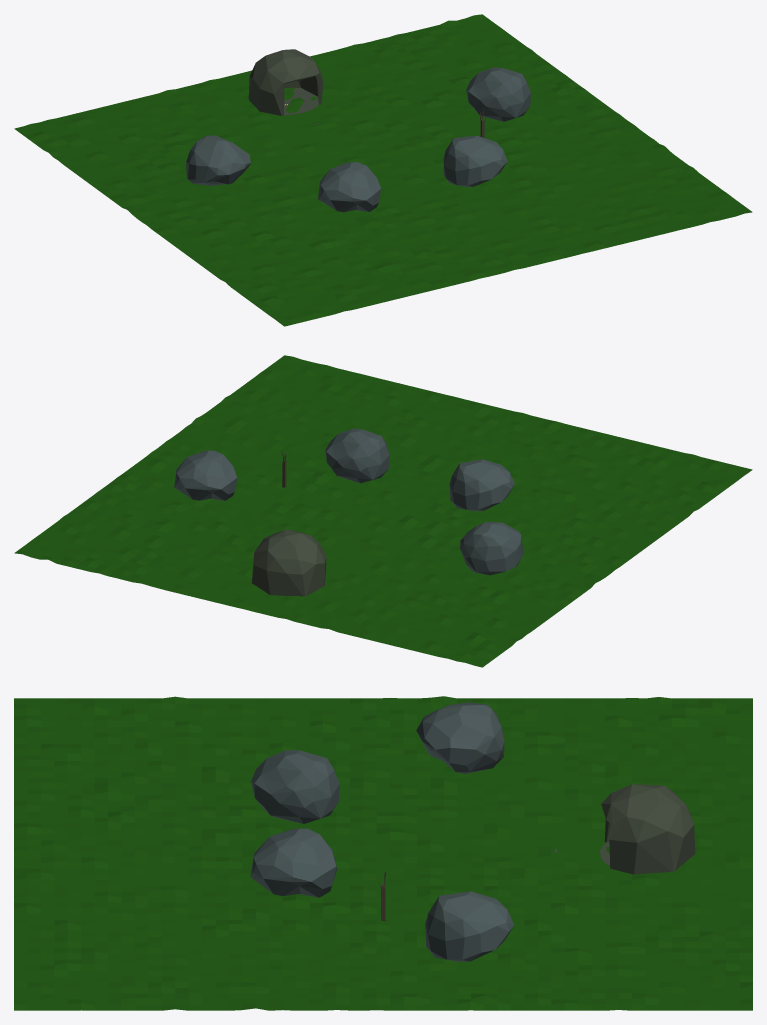
File: enviro.fbx
3 renders of one model, top to bottom at view 1: azimuth 30°, elevation 25°; view 2: azimuth 150°, elevation 25°; view 3: azimuth 270°, elevation 25°, orthographic. The views are drawn at different scales.
Visible parts, largest first — view 1: Plane, Cube.001, Cube.006, Cube.004, Cube.005, Cube.007; view 2: Plane, Cube.001, Cube.004, Cube.007, Cube.005, Cube.006; view 3: Plane, Cube.001, Cube.005, Cube.006, Cube.007, Cube.004.
Boxes of the visible parts, bbox=[...] form: Plane: bbox=[14, 14, 752, 326]; Cube.001: bbox=[248, 49, 323, 115]; Cube.006: bbox=[466, 67, 530, 121]; Cube.004: bbox=[443, 135, 507, 186]; Cube.005: bbox=[318, 162, 381, 212]; Cube.007: bbox=[186, 135, 250, 185]; Plane: bbox=[14, 355, 752, 667]; Cube.001: bbox=[251, 529, 326, 596]; Cube.004: bbox=[325, 428, 389, 483]; Cube.007: bbox=[460, 522, 523, 575]; Cube.005: bbox=[449, 459, 514, 511]; Cube.006: bbox=[174, 450, 237, 500]; Plane: bbox=[14, 696, 752, 1010]; Cube.001: bbox=[599, 784, 695, 874]; Cube.005: bbox=[251, 750, 339, 823]; Cube.006: bbox=[425, 891, 514, 961]; Cube.007: bbox=[416, 702, 504, 773]; Cube.004: bbox=[250, 828, 336, 897].
Bounding box in the file's own units: 9780 × 1046 × 9780.
